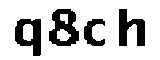8: (47, 6, 80, 51)
c: (82, 17, 108, 52)
h: (115, 3, 149, 52)
q: (12, 18, 45, 60)
